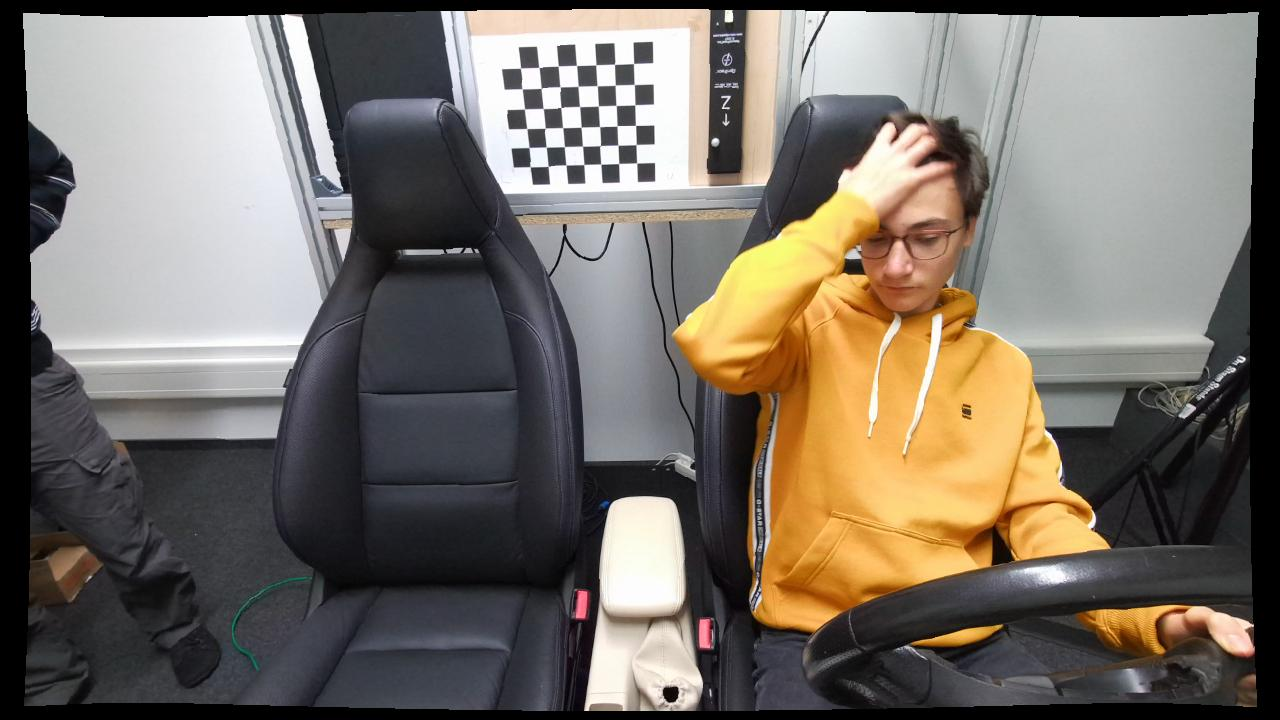Distracted: (664, 109, 1047, 712)
